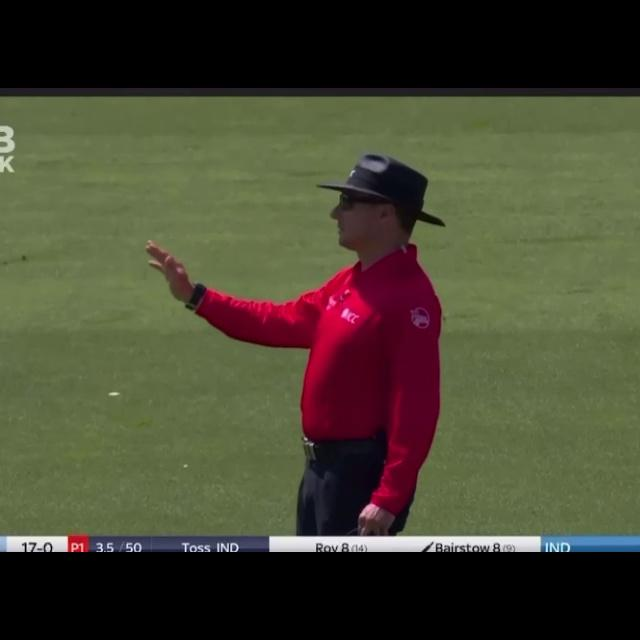umpire: (143, 122, 452, 532)
